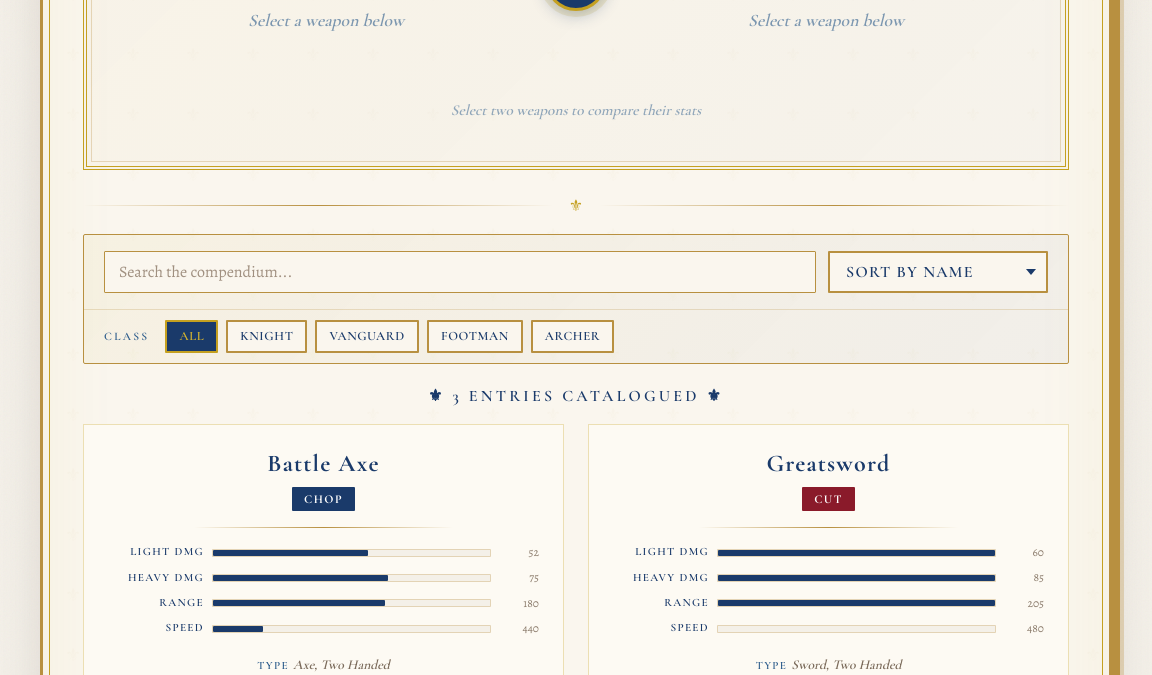
Test case: HomepageView › shows subclass buttons only after class selection
The image size is (1152, 675).
(page scrolled)
Click the button "Knight": (267, 337) [226,320,308,353]
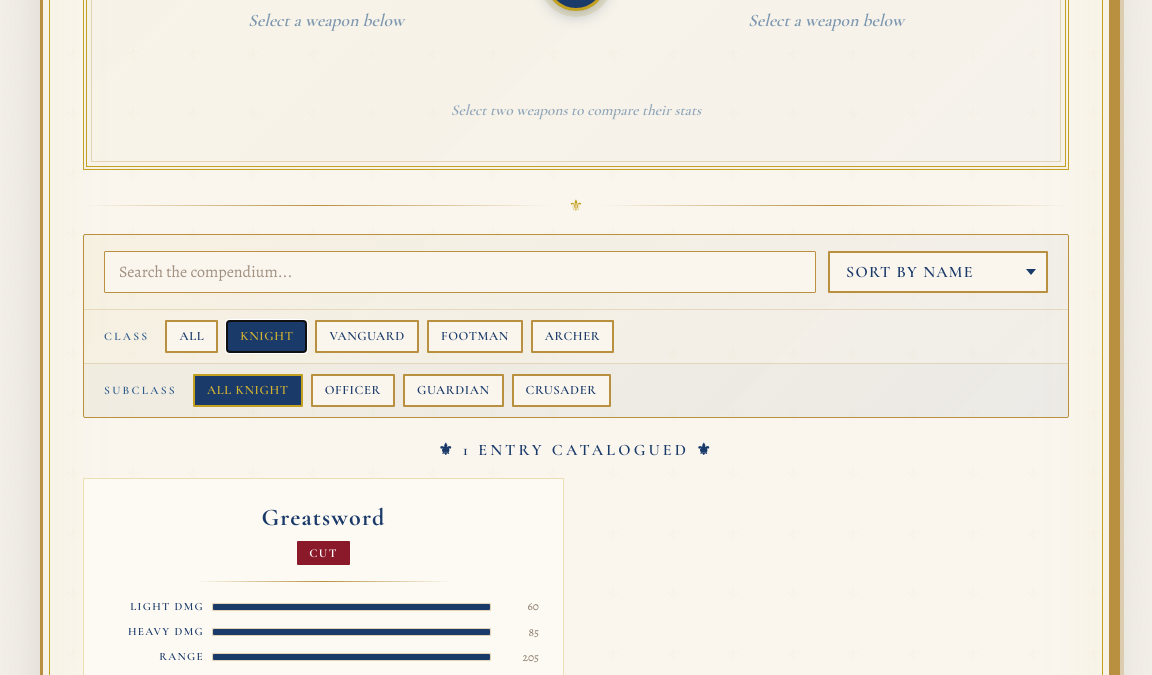
Expected: the button "All Knight" is shown, [193,374,303,407]
Expected: the button "Officer" is shown, [311,374,395,407]
